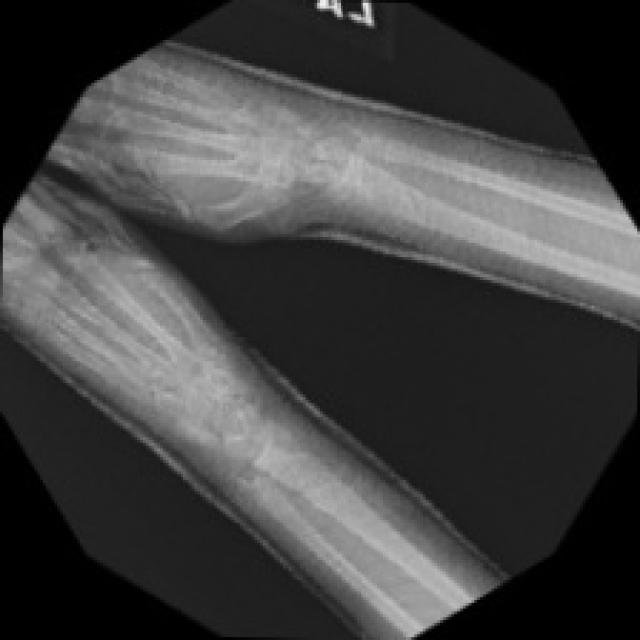fracture: (373, 181, 470, 254)
